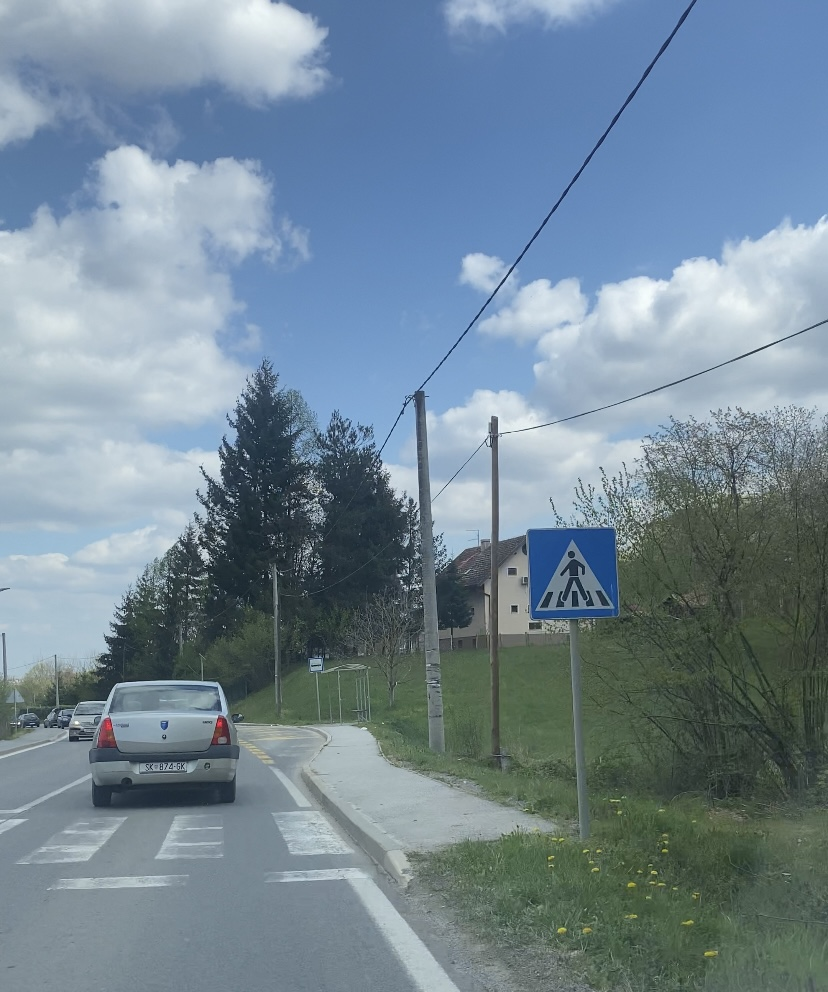Pješački prijelaz: (527, 527, 619, 620)
